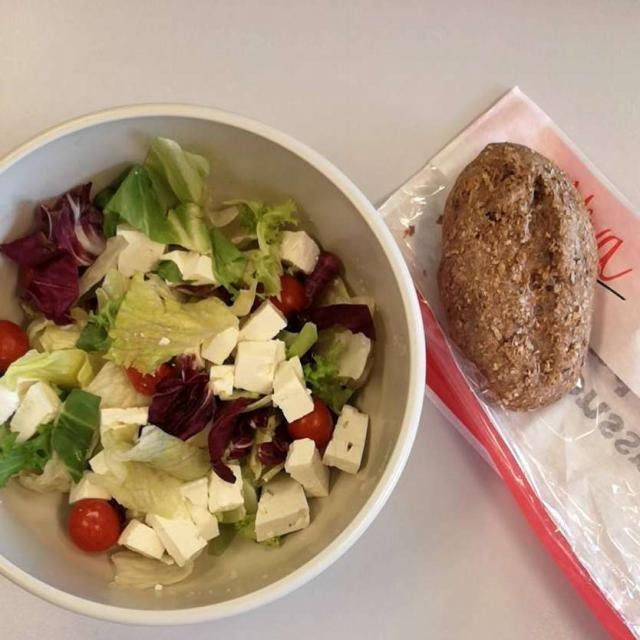bread: (445, 144, 593, 409)
cheese: (6, 226, 374, 570)
salad: (7, 139, 327, 518)
tomato: (0, 264, 335, 568)
